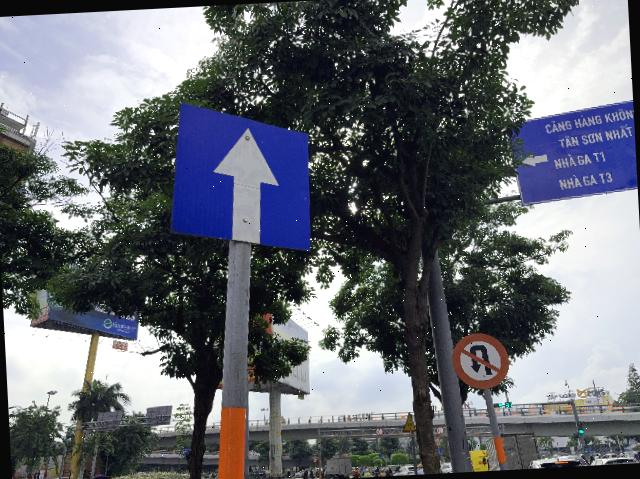cam-quay-dau-xe: (452, 331, 512, 390)
duong-mot-chieu: (164, 94, 316, 259)
